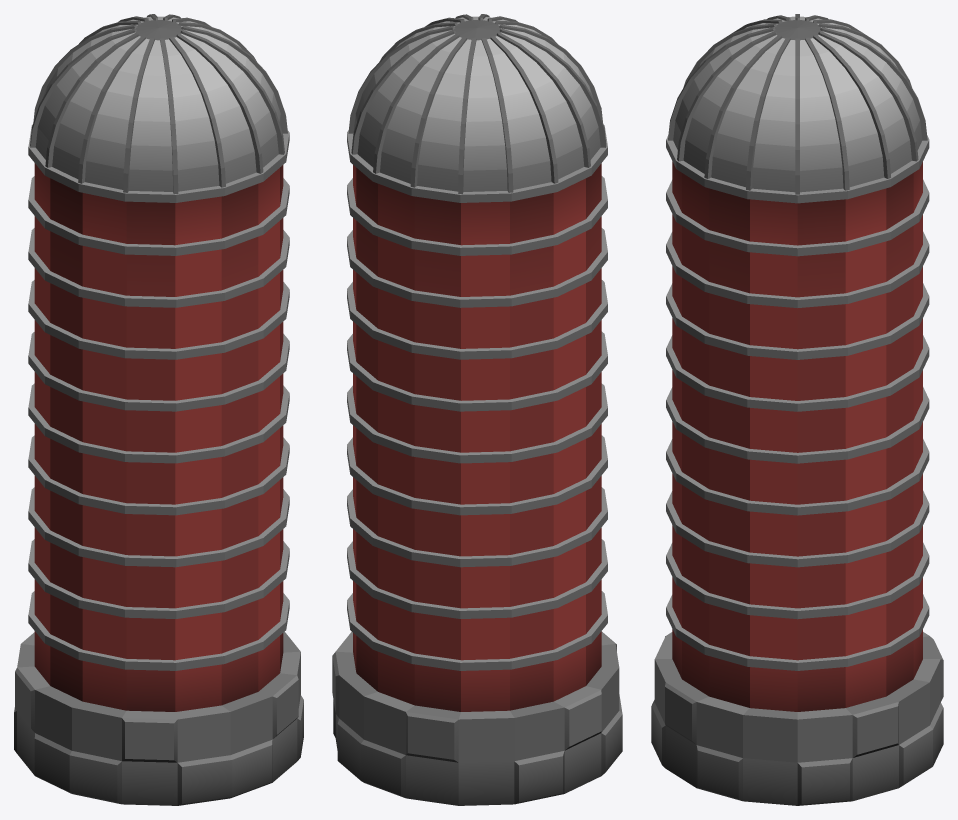
The model's file is farmpack2023largesilo.fbx.
3 views of the same model, side by side, from view 1: azimuth 30°, elevation 25°; view 2: azimuth 150°, elevation 25°; view 3: azimuth 270°, elevation 25° (orthographic).
Visible parts, largest first — view 1: Cylinder.006; view 2: Cylinder.006; view 3: Cylinder.006.
Boxes of the visible parts, box(x1,y1,x2,y2) form: Cylinder.006: box(14, 14, 303, 805); Cylinder.006: box(332, 14, 622, 805); Cylinder.006: box(651, 14, 943, 805).
Size of the model in its own units: 4.12 by 4.11 by 11.19.
